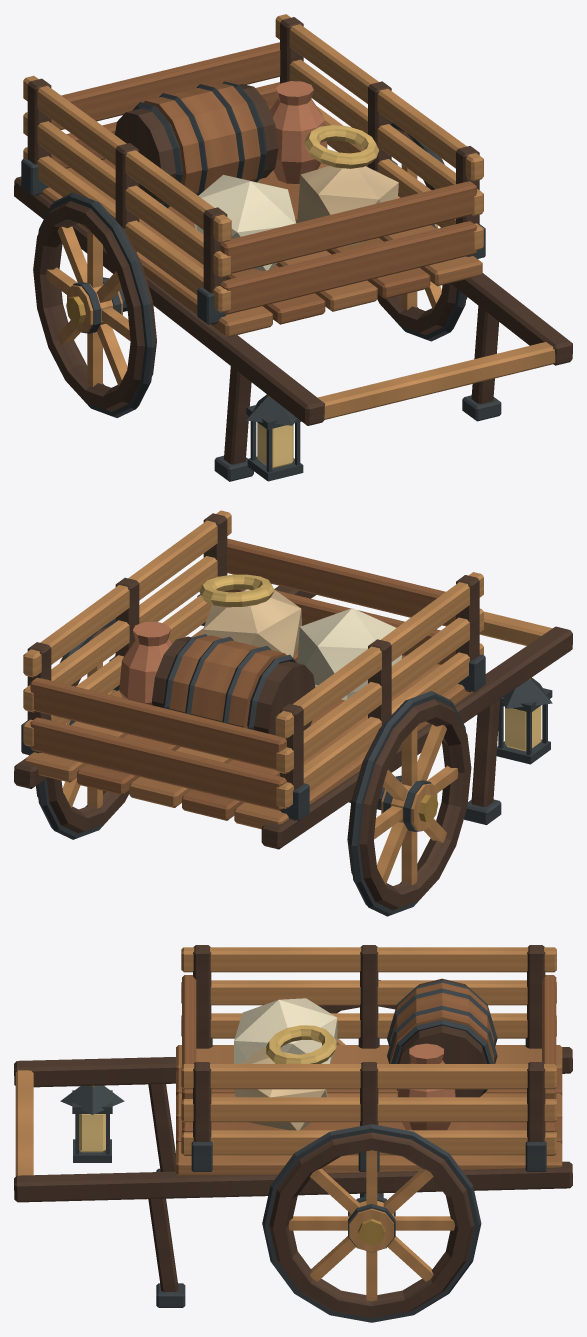
File: wooden_handcart.glb
3 renders of one model, top to bottom at view 1: azimuth 30°, elevation 25°; view 2: azimuth 150°, elevation 25°; view 3: azimuth 270°, elevation 25°, orthographic. The views are drawn at different scales.
Visible parts, largest first — view 1: wooden_handcart; view 2: wooden_handcart; view 3: wooden_handcart.
Boxes of the visible parts, box(x1,y1,x2,y2) form: wooden_handcart: box(14, 14, 572, 481); wooden_handcart: box(14, 510, 572, 916); wooden_handcart: box(14, 945, 572, 1322).
Bounding box in the file's own units: 1.5 × 1.03 × 2.14.
Materials: 1 (1 with a texture image).
